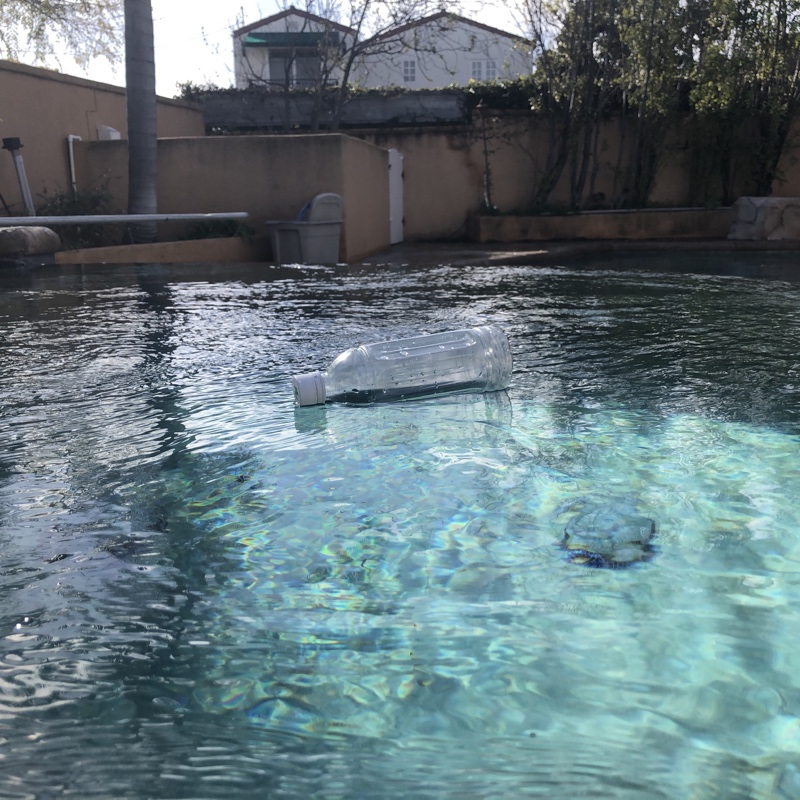Plastic Bottle: (285, 322, 515, 411)
